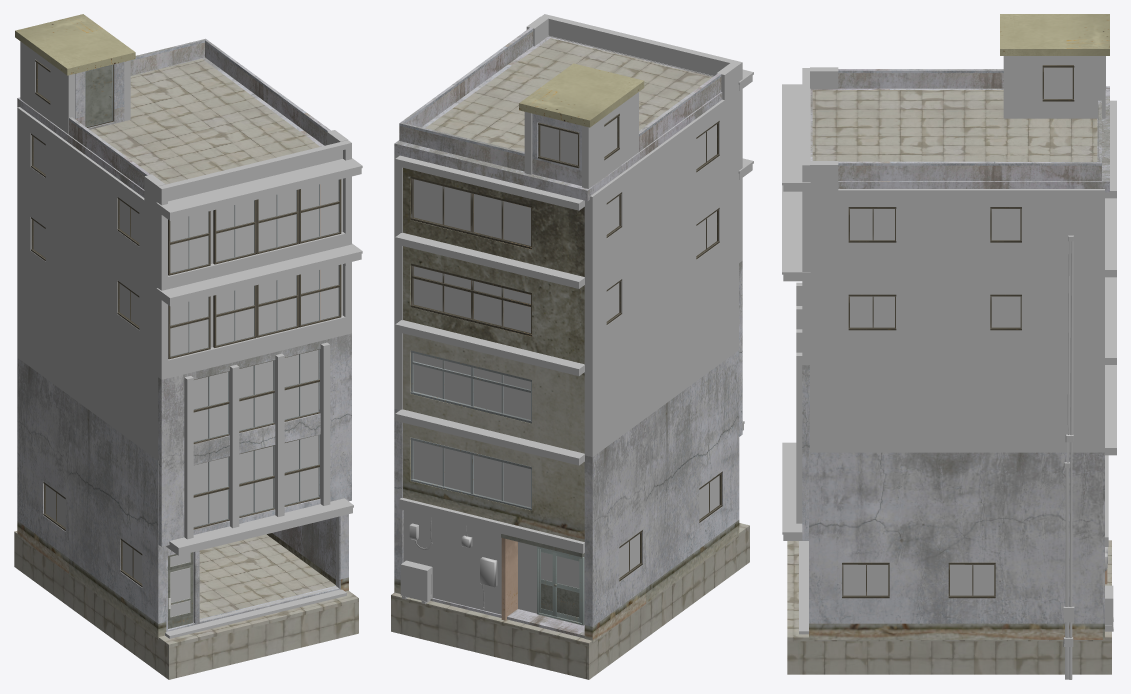
The model's file is bil_m_a2.fbx.
The picture shows the model from 3 angles, left to right: view 1: azimuth 30°, elevation 25°; view 2: azimuth 150°, elevation 25°; view 3: azimuth 270°, elevation 25°; orthographic projection. The views are drawn at different scales.
Visible parts, largest first — view 1: bil_m_a2; view 2: bil_m_a2; view 3: bil_m_a2.
Boxes of the visible parts, x1,y1,x2,y2 form: bil_m_a2: [14, 14, 362, 679]; bil_m_a2: [391, 14, 753, 679]; bil_m_a2: [782, 14, 1116, 679].
Size of the model in its own units: 735 by 1963 by 1049.
